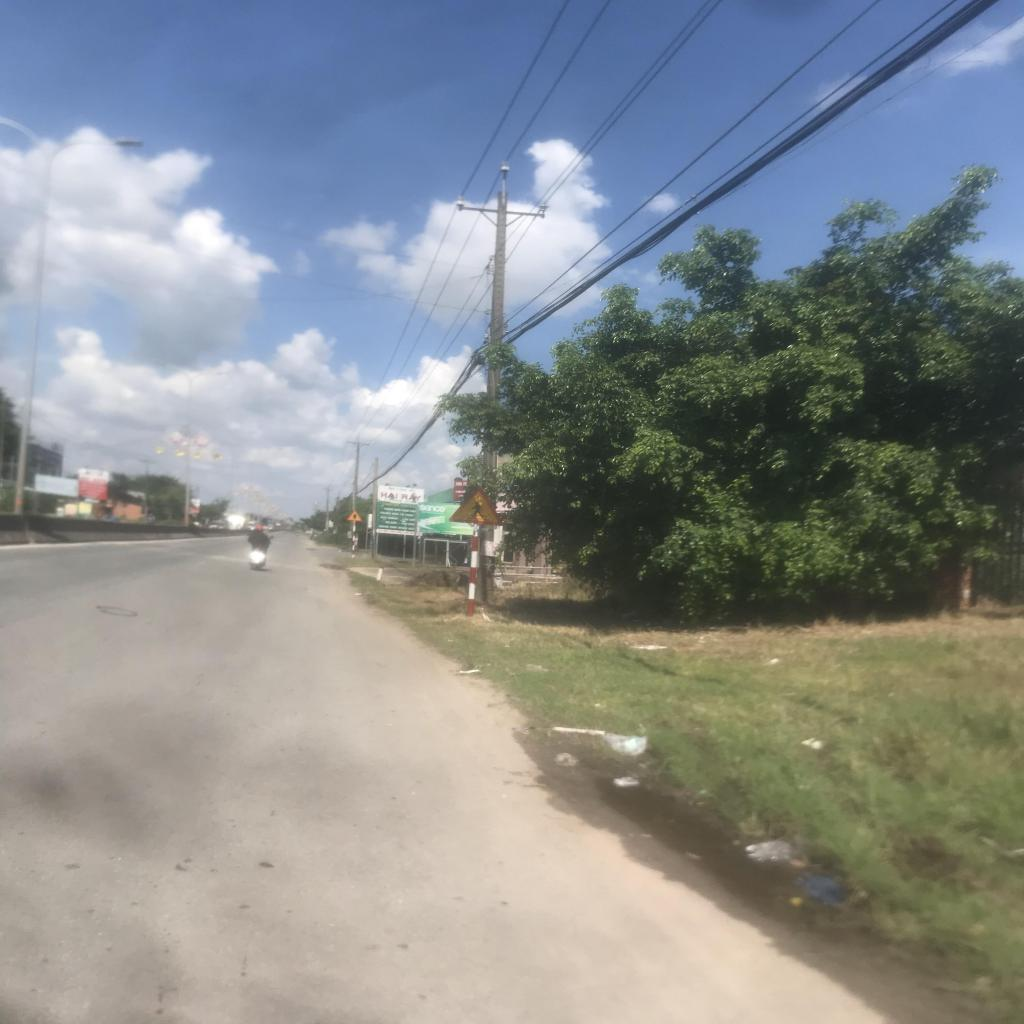chu_y_nguoi_di_bo_cat_ngang: (448, 486, 506, 528)
giao_nhau_voi_duong_khong_uu_tien: (346, 510, 363, 522)
